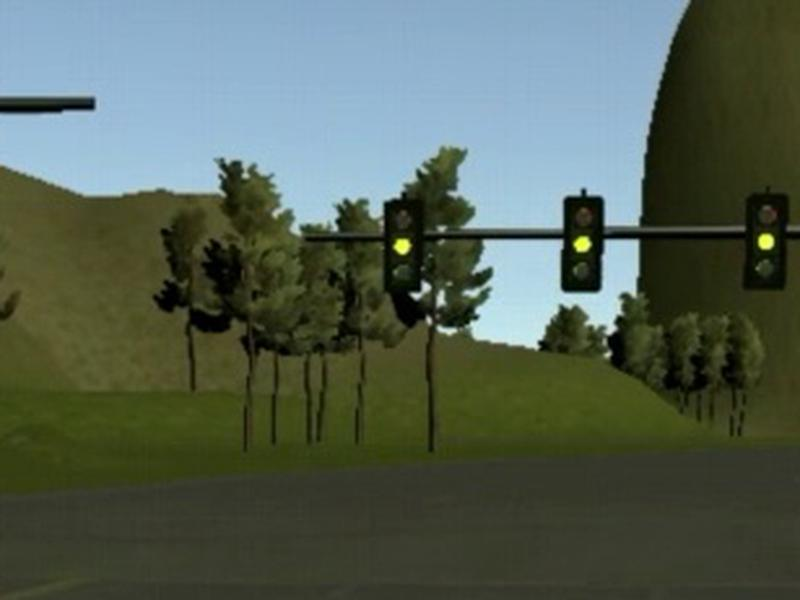Yellow: (742, 193, 789, 292), (560, 196, 605, 294), (383, 201, 424, 292)
